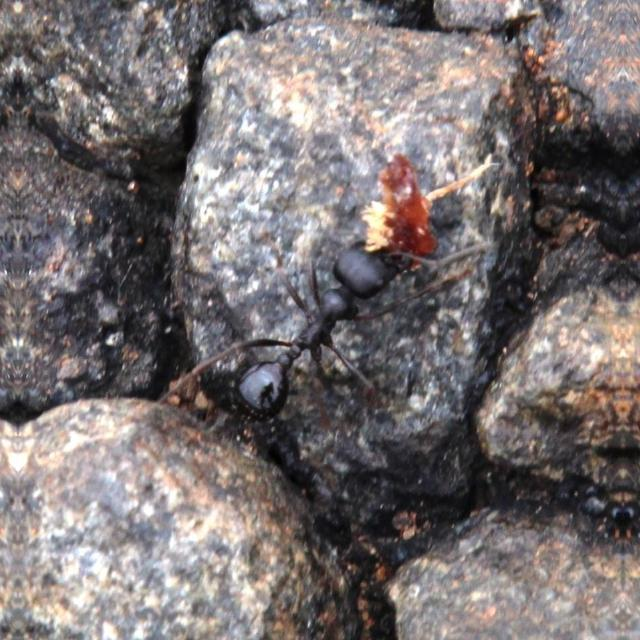Messor: (212, 206, 434, 439)
